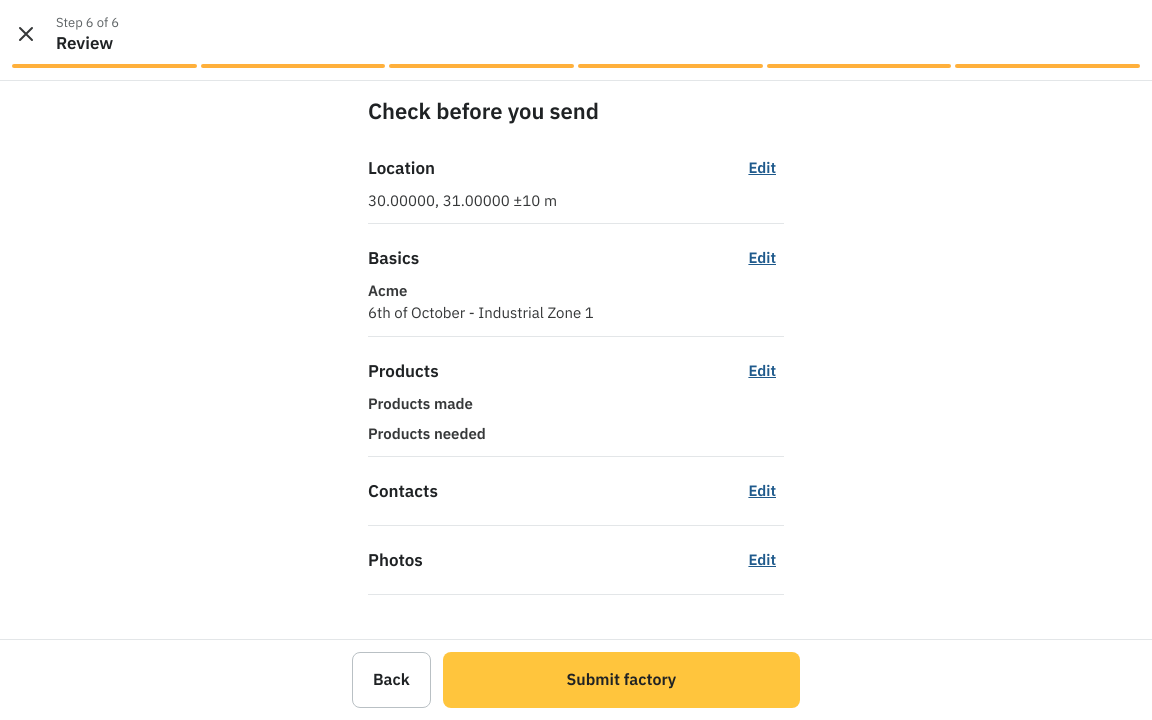
Test: FactoryStepper › a synchronous throw while online keeps the form and shows the error
What coordinates should you click on to do the following:
click the button "Submit factory"
I would click on:
 (621, 680)
Its box is [443,652,800,708].
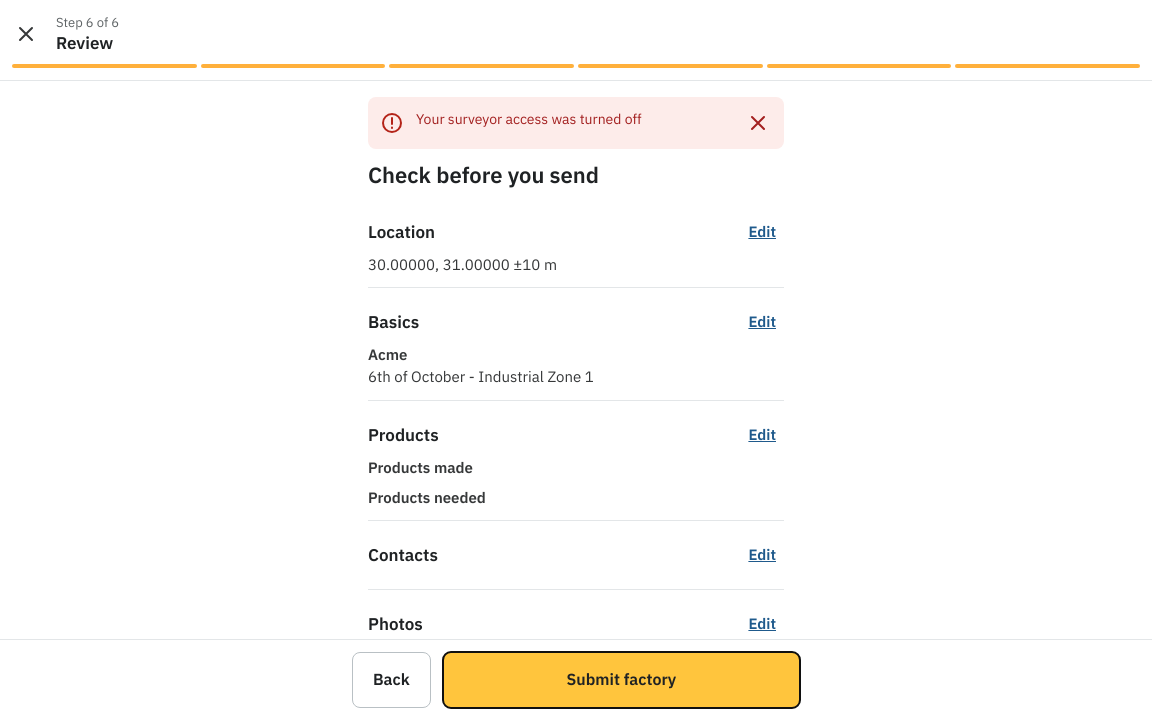
Result: the text "Your surveyor access was turned off" is shown at [416,110,642,128]
